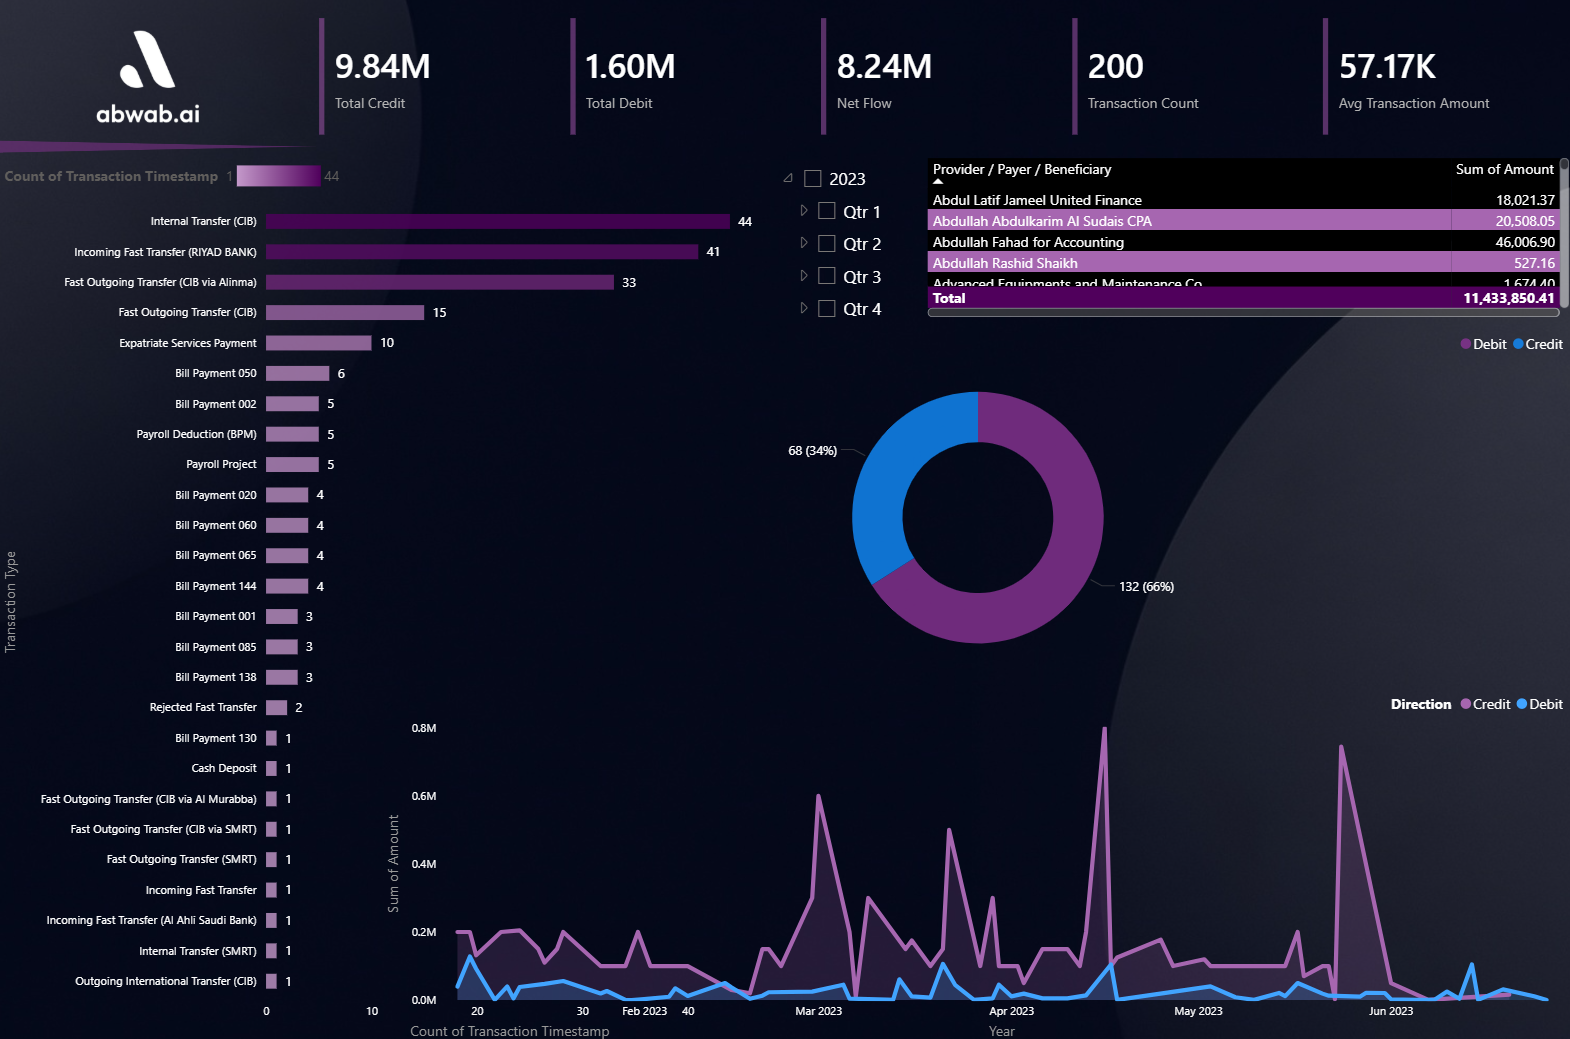

The dashboard page shown, as its layout file describes it:
{"tool":"powerbi","page":{"name":"Transaction Overview","canvas":[1500,1000],"ordinal":0},"visuals":[{"type":"image","box":[0,0,283.3,155],"z":0},{"type":"cardVisual","fields":{"Data":["task.Total Credit","task.Total Debit","task.Net Flow","task.Transaction Count","task.Avg Transaction Amount"]},"box":[283.3,0,1216.7,155],"z":1000},{"type":"lineChart","fields":{"Y":["Sum(task.Amount)"],"Series":["task.Direction"],"Category":["Calendar.Date.Variation.Date Hierarchy.Year","Calendar.Date.Variation.Date Hierarchy.Quarter","Calendar.Date.Variation.Date Hierarchy.Month","Calendar.Date.Variation.Date Hierarchy.Day"]},"box":[364.7,654.4,1135.3,345.6],"z":2000},{"type":"barChart","fields":{"Y":["CountNonNull(task.Transaction Timestamp)"],"Category":["task.Transaction Type"]},"box":[0,154.4,729.4,845.6],"z":3000},{"type":"donutChart","fields":{"Category":["task.Direction"],"Y":["CountNonNull(task.Direction)"]},"box":[364.7,311.8,1135.3,342.6],"z":4000},{"type":"tableEx","fields":{"Values":["task.Provider / Payer / Beneficiary","Sum(task.Amount)"]},"box":[878.3,150,621.7,161.7],"z":5000},{"type":"slicer","fields":{"Values":["Calendar.Date.Variation.Date Hierarchy.Year","Calendar.Date.Variation.Date Hierarchy.Quarter","Calendar.Date.Variation.Date Hierarchy.Month","Calendar.Date.Variation.Date Hierarchy.Day","task.Direction","task.Status","task.Cluster"]},"box":[729.4,154.4,213.2,173.5],"z":6000},{"type":"shape","box":[0,138.3,301.7,11.7],"z":7000}]}

Visuals, with their boxes in screenshot pixels (x1, y1, x2, y2), scaled from the page's 1500x1000 canvas onto the 1570x1039 screenshot:
image: (0, 0, 297, 161)
cardVisual - task.Total Credit x task.Total Debit: (297, 0, 1569, 161)
lineChart - Sum(task.Amount) x task.Direction: (382, 680, 1569, 1038)
barChart - CountNonNull(task.Transaction Timestamp) x task.Transaction Type: (0, 160, 763, 1038)
donutChart - task.Direction x CountNonNull(task.Direction): (382, 324, 1569, 680)
tableEx - task.Provider / Payer / Beneficiary x Sum(task.Amount): (919, 156, 1569, 324)
slicer - Calendar.Date.Variation.Date Hierarchy.Year x Calendar.Date.Variation.Date Hierarchy.Quarter: (763, 160, 987, 341)
shape: (0, 144, 316, 156)
